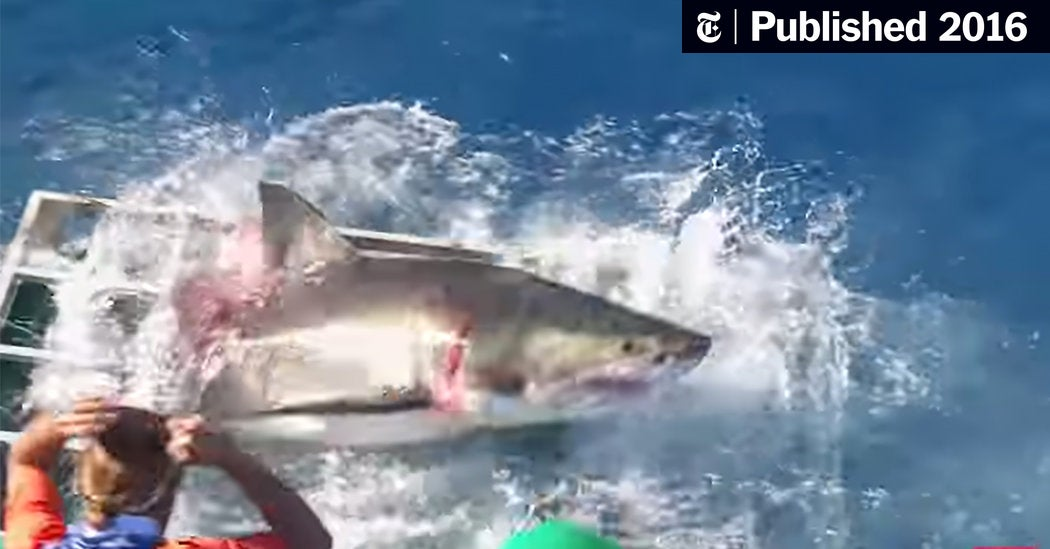shark: (18, 168, 717, 460)
